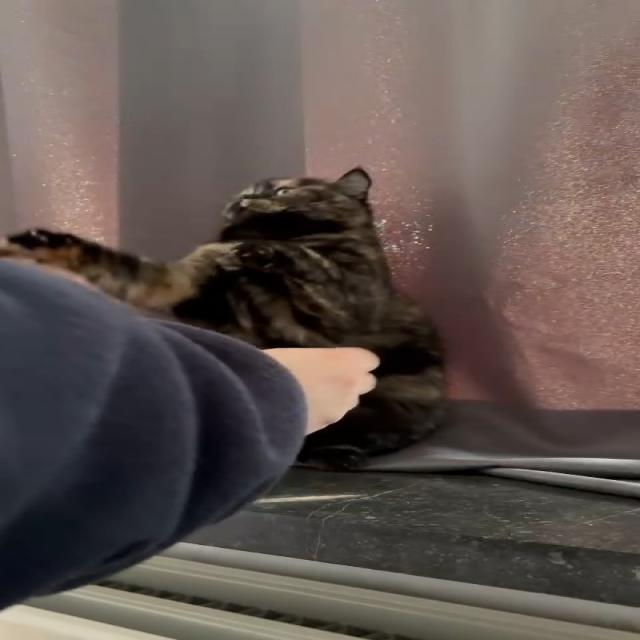authorized: (2, 164, 450, 471)
